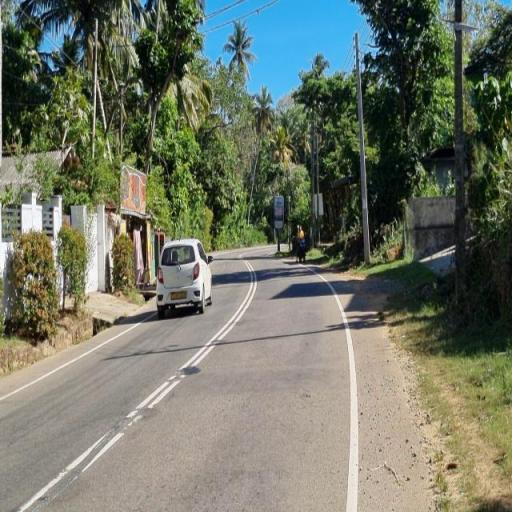double_white_line: (126, 262, 260, 428)
